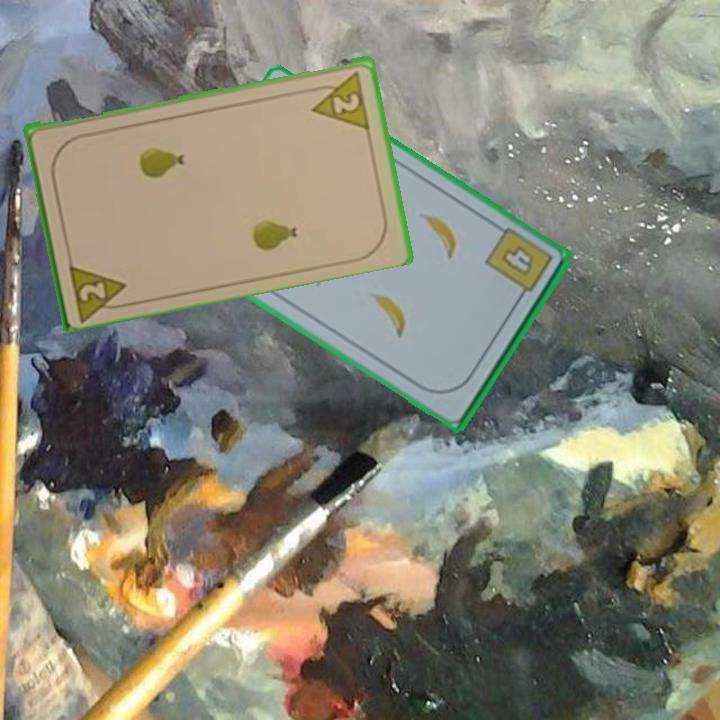2p: (65, 257, 133, 321), (305, 67, 373, 130)
4b: (482, 224, 556, 306)
